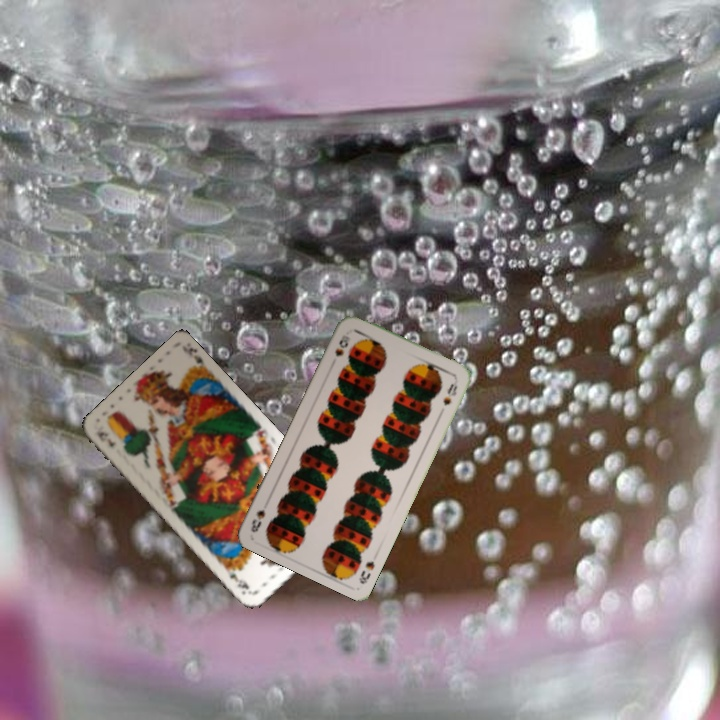EK: (92, 427, 117, 450)
S8: (355, 557, 377, 586), (331, 331, 353, 359)
